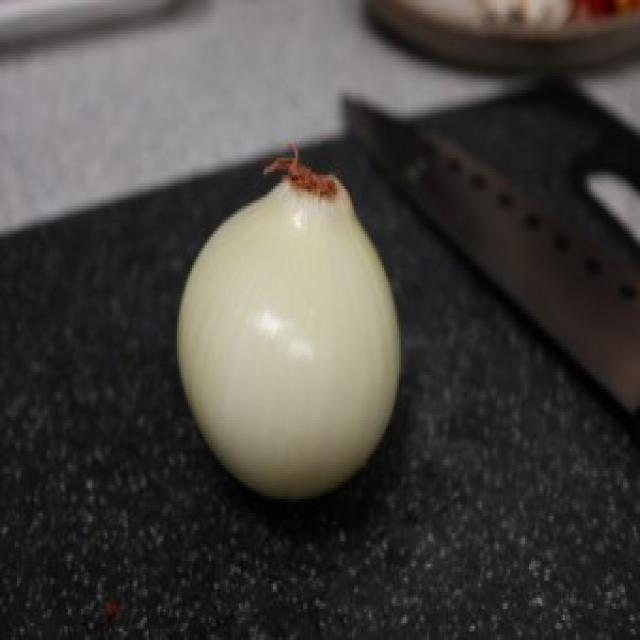onion: (160, 128, 427, 518)
